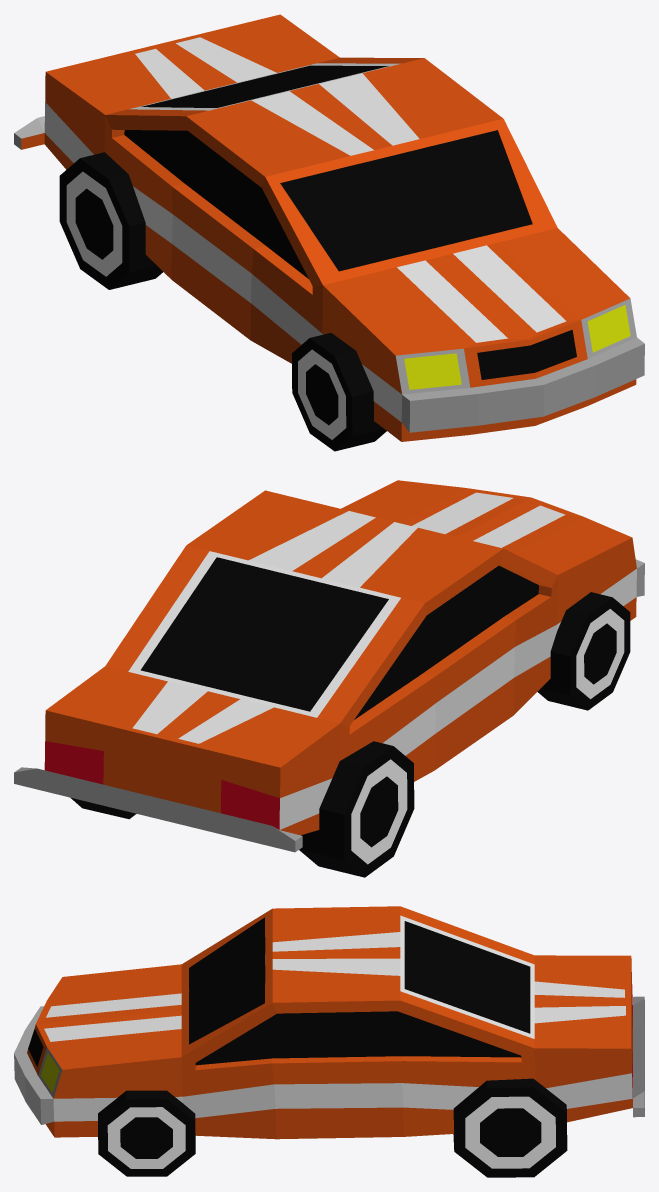
File: Carro1.glb
3 views of the same model, one above another, from view 1: azimuth 30°, elevation 25°; view 2: azimuth 150°, elevation 25°; view 3: azimuth 270°, elevation 25° (orthographic). The views are drawn at different scales.
Parts seen in each view (by area): view 1: Cube.001; view 2: Cube.001; view 3: Cube.001.
Boxes of the visible parts, bbox=[...] form: Cube.001: bbox=[14, 14, 644, 451]; Cube.001: bbox=[14, 480, 644, 877]; Cube.001: bbox=[14, 906, 644, 1177].
Size of the model in its own units: 125 by 87.23 by 296.
